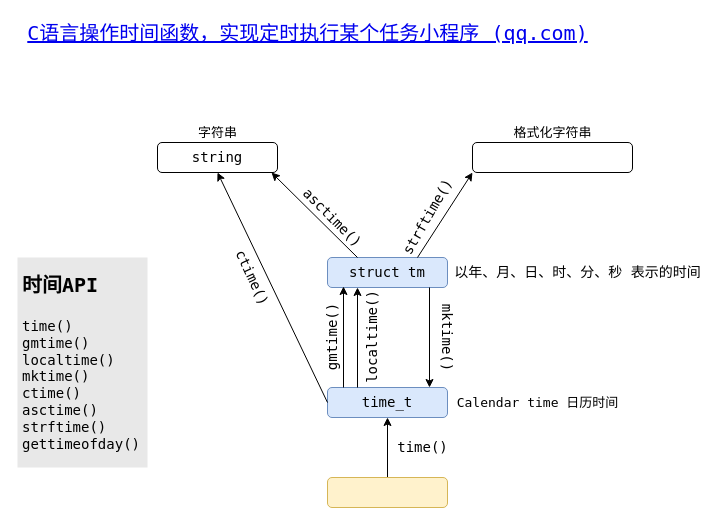
This 724x525 diagram has some shape labels left out. The shapes that lost their labels are listed below. From the top down, each one's box as (x1, y1, x2, y2) in pixels, then its label:
(472, 142, 632, 172): formatted string
(326, 476, 448, 508): kernel
